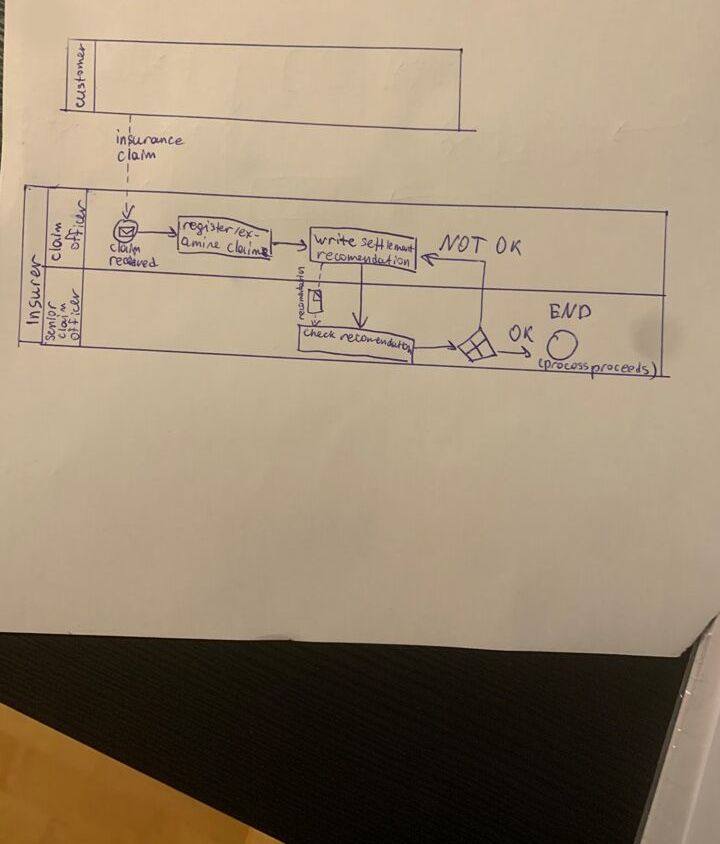(process: (534, 355, 593, 375)
/: (230, 222, 243, 240)
Claim: (112, 145, 163, 166)
END: (543, 299, 597, 325)
Insurer: (20, 250, 49, 329)
NOT: (433, 230, 494, 258)
OK: (492, 233, 527, 260), (505, 320, 539, 347)
amine: (177, 233, 225, 253)
check: (298, 324, 340, 342)
claim: (44, 218, 67, 266), (106, 238, 145, 258), (54, 299, 71, 343)
claims: (224, 238, 277, 262)
customer: (70, 40, 90, 112)
ex-: (235, 225, 263, 243)
insurance: (111, 125, 190, 152)
officer: (60, 195, 92, 255), (64, 285, 86, 345)
proceeds): (586, 358, 661, 384)
received: (104, 253, 162, 271)
recomendation: (311, 246, 414, 271), (335, 329, 416, 359)
recommendation: (292, 263, 308, 323)
register: (178, 216, 237, 239)
senior: (41, 299, 61, 344)
settlement: (357, 233, 419, 257)
write: (310, 228, 361, 251)
